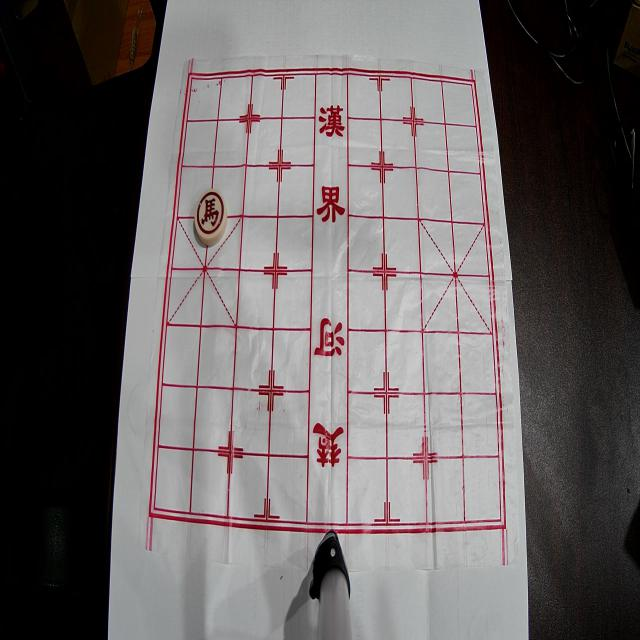red-horse: (195, 189, 228, 246)
